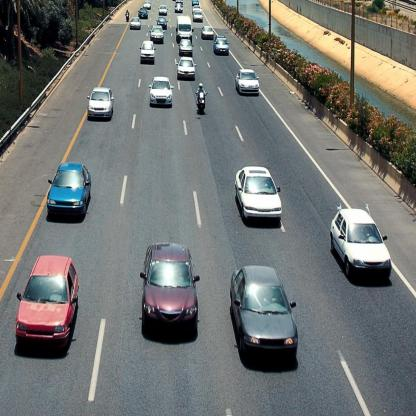car: (15, 253, 79, 360), (231, 267, 303, 362), (140, 241, 203, 345), (332, 205, 395, 293), (235, 168, 287, 229), (50, 160, 92, 223), (149, 76, 176, 108), (235, 69, 264, 98), (90, 91, 117, 121), (176, 58, 199, 80), (139, 43, 158, 65), (149, 25, 165, 48), (213, 39, 231, 55), (201, 23, 214, 41), (194, 12, 203, 25), (130, 20, 140, 30), (160, 5, 167, 16)
motorbike: (196, 84, 207, 119), (125, 12, 131, 23)
truck: (176, 16, 193, 39)
